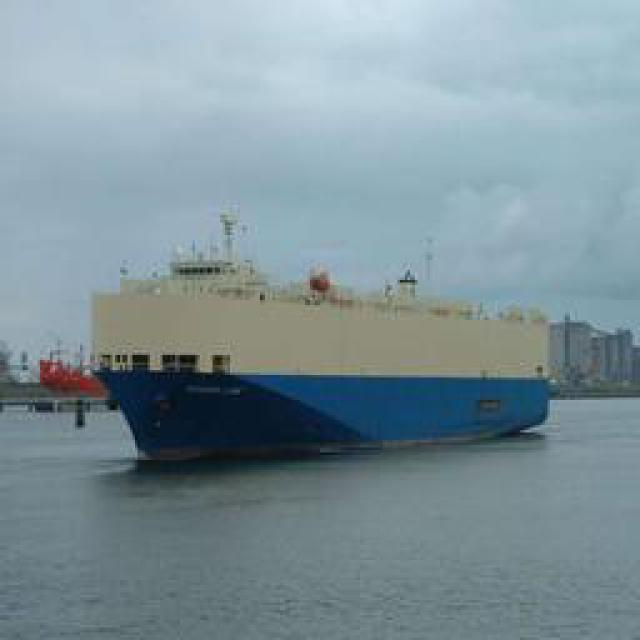Ship: (87, 318, 557, 463)
